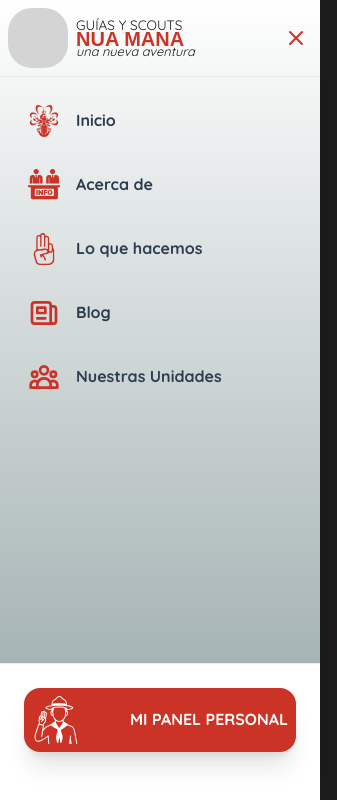
Test: SidebarDrawer — hardcoded fallback on empty DB › lets the user navigate the fallback sub-views (drawer UX preserved)
Click the button "Acerca de". click: (44, 185)
box: [16, 157, 304, 213]
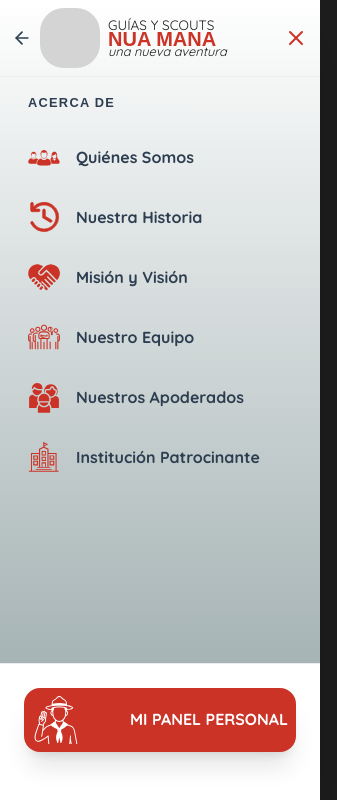
Expected: the text "Quiénes Somos" is shown, [76, 145, 194, 170]
Click the button named "volver al men". click: (22, 38)
box: [8, 24, 36, 52]
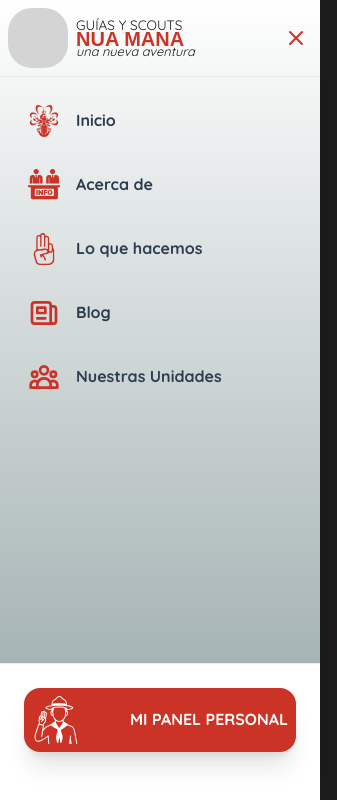
Expected: the button "Inicio" is shown, [16, 93, 304, 149]
